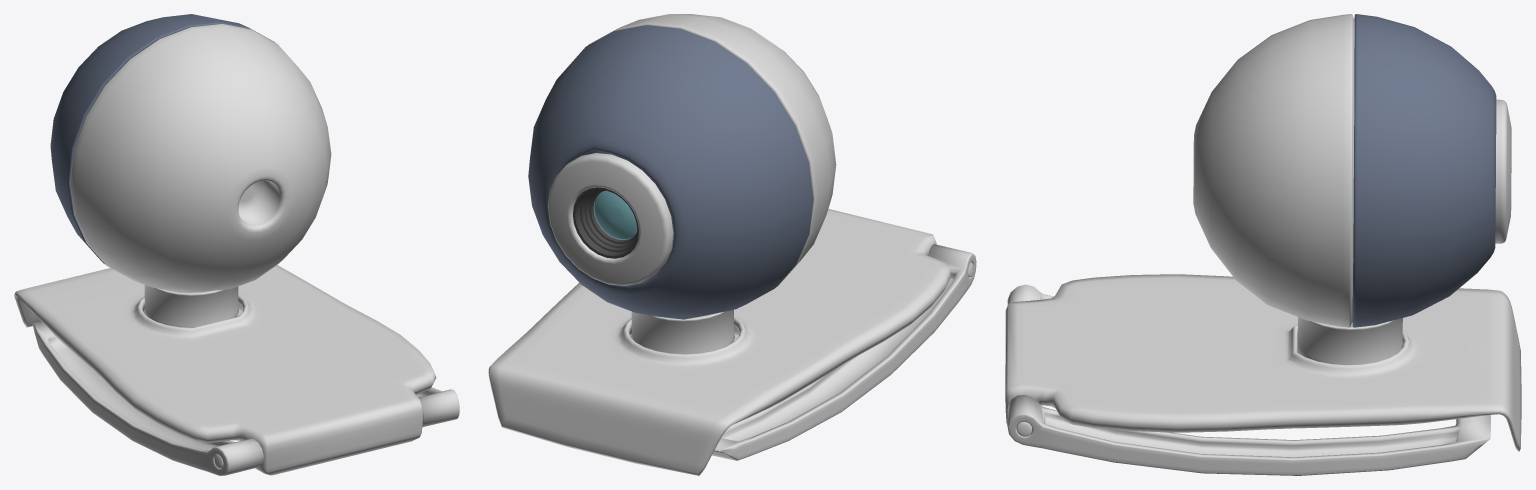
The model's file is Webcam_MPI01_fbx.fbx.
3 views of the same model, side by side, from view 1: azimuth 30°, elevation 25°; view 2: azimuth 150°, elevation 25°; view 3: azimuth 270°, elevation 25° (orthographic). The views are drawn at different scales.
Parts seen in each view (by area): view 1: Chocofur_Free_Accessories_11; view 2: Chocofur_Free_Accessories_11; view 3: Chocofur_Free_Accessories_11.
Part boxes in pixels (x1,y1,x2,y2): Chocofur_Free_Accessories_11: (14, 14, 459, 475); Chocofur_Free_Accessories_11: (488, 14, 976, 475); Chocofur_Free_Accessories_11: (1005, 14, 1521, 475).
Size of the model in its own units: 5.51 by 6.63 by 8.14.
